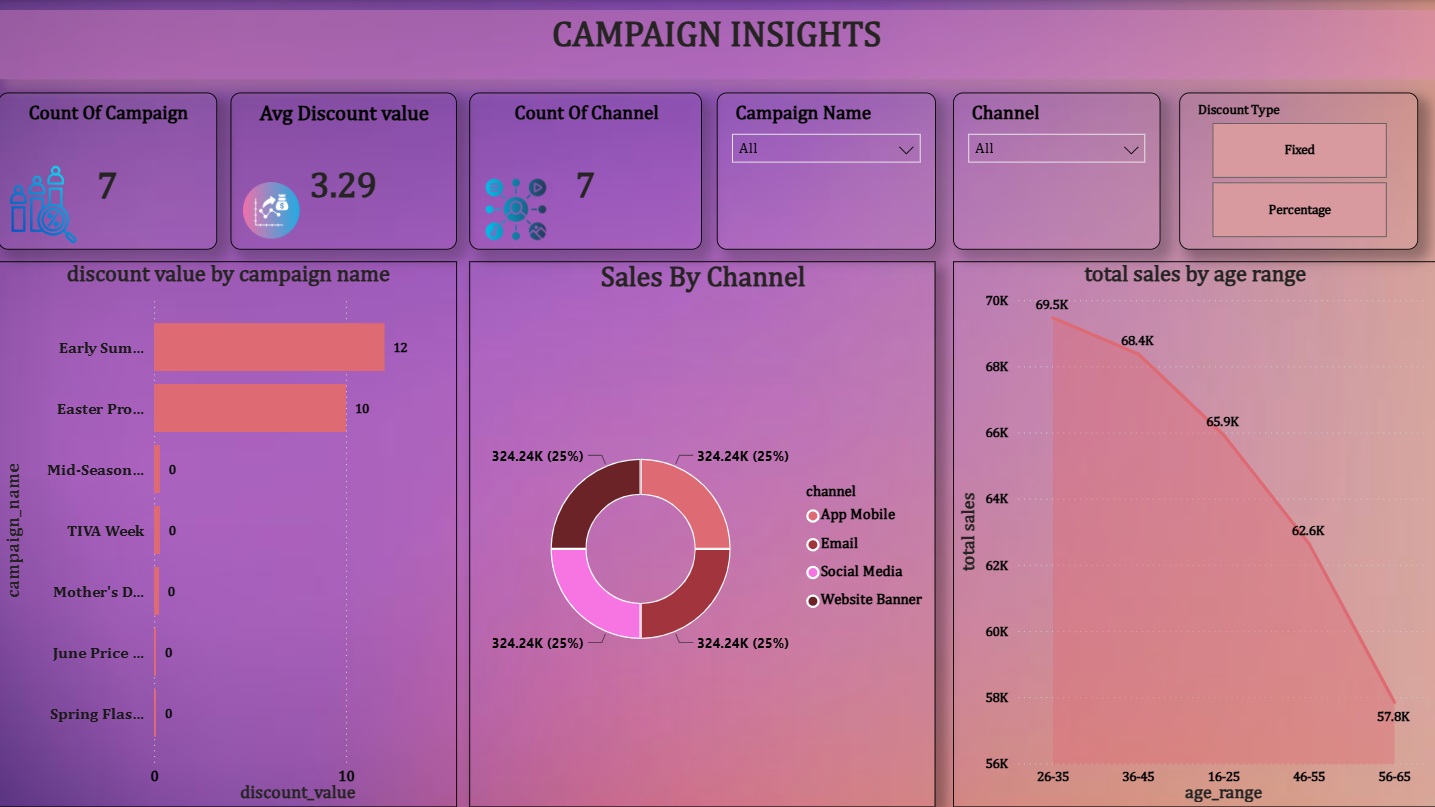

Layout of this report page (visuals, bound fields, positions):
{"tool":"powerbi","page":{"name":"CAMPAIGNS DASHBOARD","canvas":[1280,720],"ordinal":1},"visuals":[{"type":"textbox","box":[0,8.8,1280,61.2],"z":0},{"type":"card","fields":{"Values":["CountNonNull(fashion store campaigns.campaign_id)"]},"box":[0,82.5,195,140],"z":1000},{"type":"card","fields":{"Values":["Avg(fashion store campaigns.discount_value)"]},"box":[207.5,82.5,201.2,140],"z":2000},{"type":"card","fields":{"Values":["CountNonNull(fashion store campaigns.channel)"]},"box":[420,82.5,207.5,140],"z":3000},{"type":"slicer","fields":{"Values":["fashion store campaigns.campaign_name"]},"box":[640,82.5,195,140],"z":4000},{"type":"slicer","fields":{"Values":["fashion store campaigns.channel"]},"box":[850,82.5,185,140],"z":5000},{"type":"slicer","fields":{"Values":["fashion store campaigns.discount_type"]},"box":[1052.5,82.5,212.5,140],"z":6000},{"type":"clusteredBarChart","title":"discount value by campaign name","fields":{"Category":["fashion store campaigns.campaign_name"],"Y":["Sum(fashion store campaigns.discount_value)"]},"box":[0,232.5,408.8,487.5],"z":7000},{"type":"donutChart","title":" Sales By Channel","fields":{"Category":["fashion store campaigns.channel"],"Y":["store sales.total sales"]},"box":[420,232.5,415,487.5],"z":8000},{"type":"lineChart","title":"total sales by age range","fields":{"Category":["customers.age_range"],"Y":["store sales.total sales"]},"box":[850,232.5,430,487.5],"z":9000}]}

Visuals, with their boxes in screenshot pixels (x1, y1, x2, y2), scaled from the page's 1280x720 canvas onto the 1435x807 screenshot:
textbox: bbox=[0, 10, 1434, 78]
card - CountNonNull(fashion store campaigns.campaign_id): bbox=[0, 92, 219, 249]
card - Avg(fashion store campaigns.discount_value): bbox=[233, 92, 458, 249]
card - CountNonNull(fashion store campaigns.channel): bbox=[471, 92, 703, 249]
slicer - fashion store campaigns.campaign_name: bbox=[718, 92, 936, 249]
slicer - fashion store campaigns.channel: bbox=[953, 92, 1160, 249]
slicer - fashion store campaigns.discount_type: bbox=[1180, 92, 1418, 249]
"discount value by campaign name" clusteredBarChart: bbox=[0, 261, 458, 806]
" Sales By Channel" donutChart: bbox=[471, 261, 936, 806]
"total sales by age range" lineChart: bbox=[953, 261, 1434, 806]
